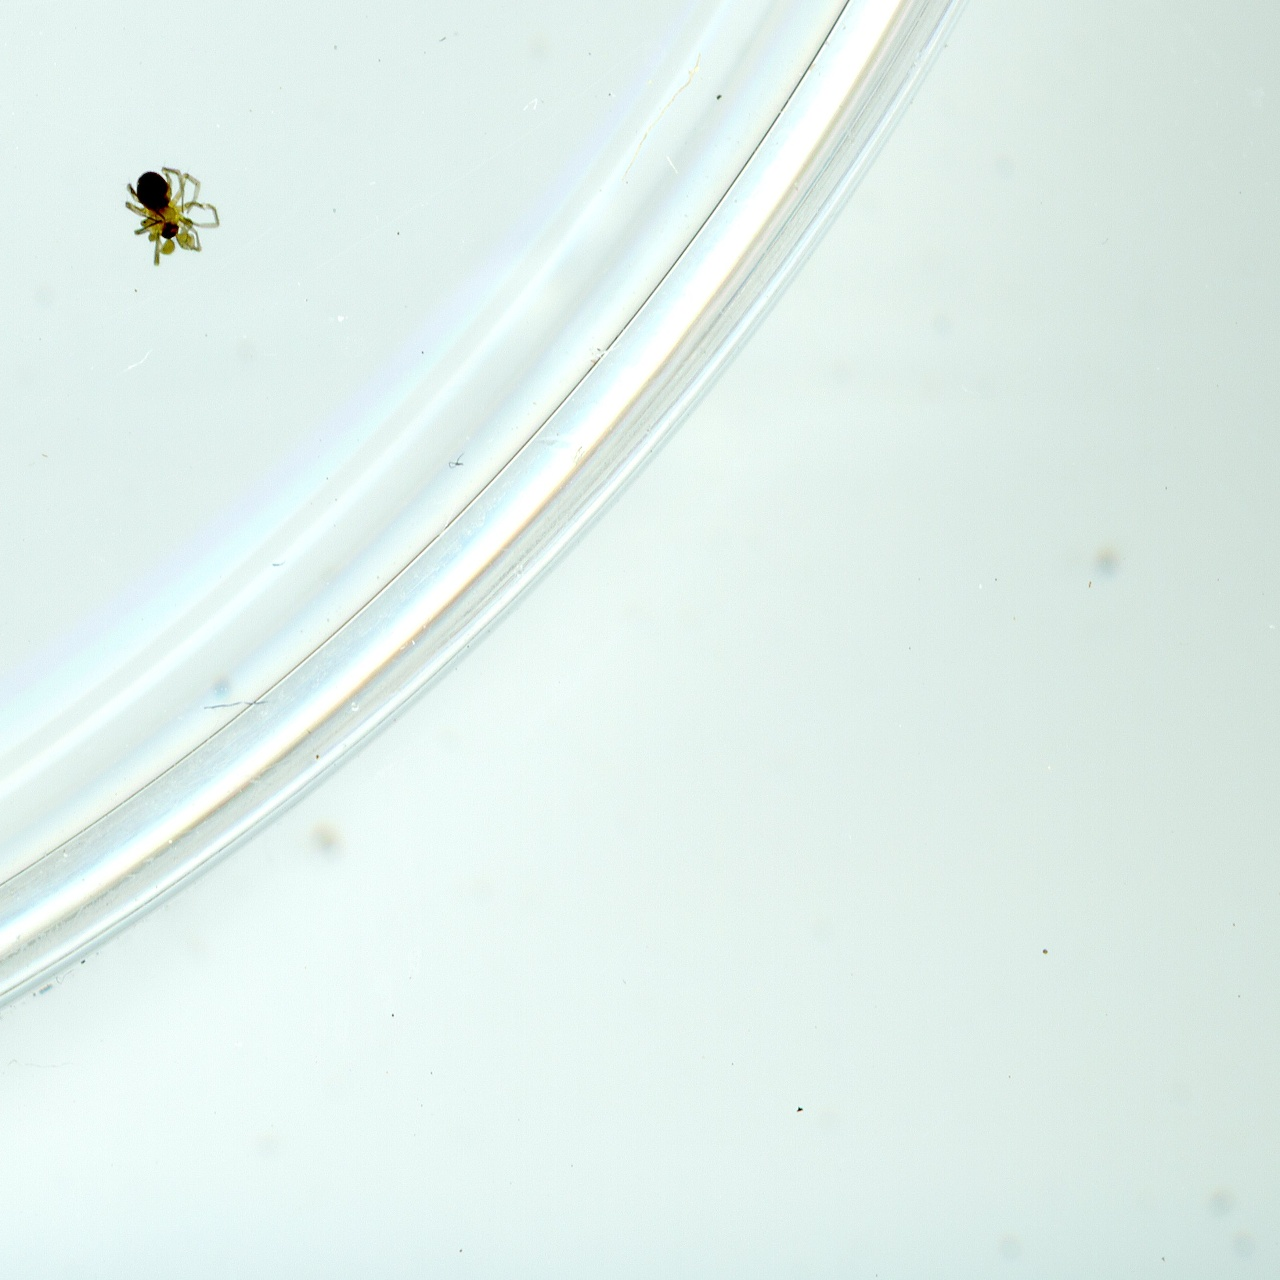arthropod: (82, 150, 230, 269)
